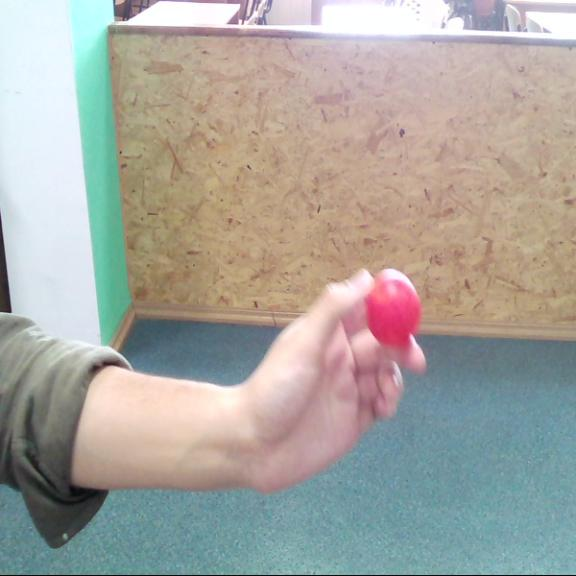ball: (364, 264, 425, 347)
